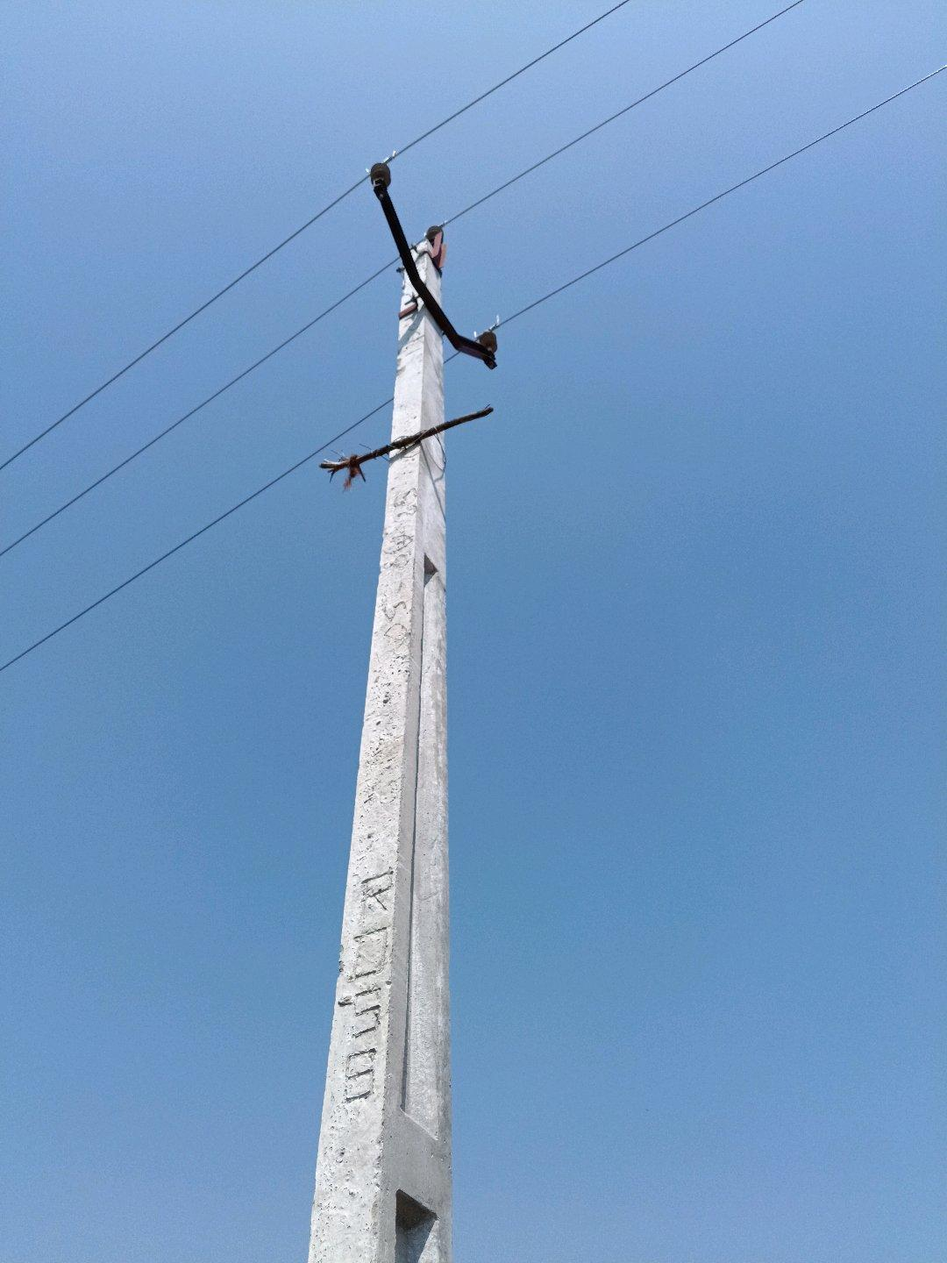{"0" "insulator", "1" "pole", "2" "crossarm", "3" "conductor", "4" "street_: (307, 435, 451, 1262), (369, 163, 496, 441)
